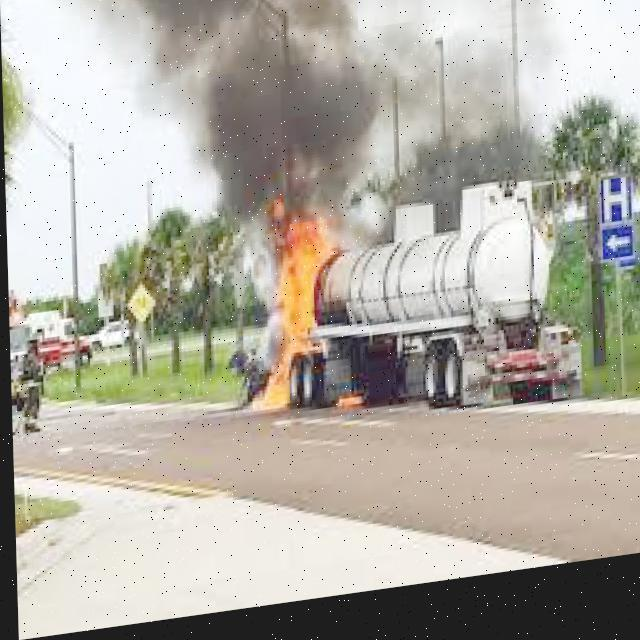Fire: (240, 212, 356, 430)
